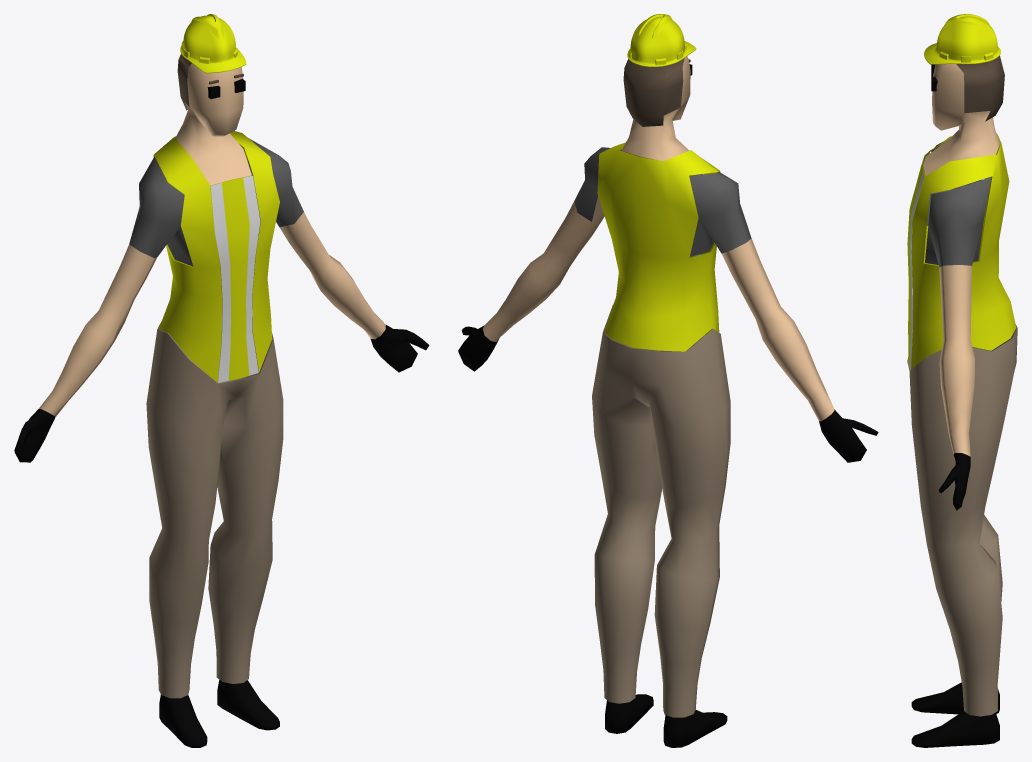
The model's file is engineer.fbx.
3 renders of one model, left to right at view 1: azimuth 30°, elevation 25°; view 2: azimuth 150°, elevation 25°; view 3: azimuth 270°, elevation 25°, orthographic.
Visible parts, largest first — view 1: Male.002, Male.001, Male.006, Male.007, Male.004, Male.008, Male.003, Male.005, Stock_Hard_Hat_fakey_1; view 2: Male.002, Male.001, Male.006, Male.004, Male.009, Male.003, Male.005, Stock_Hard_Hat_fakey_1, Male.007; view 3: Male.002, Male.001, Male.006, Male.004, Male.007, Male.003, Stock_Hard_Hat_fakey_1, Male.009, Male.005, Male.008.
Part boxes in pixels (box(x1,y1,x2,y2)): Male.002: box(146, 306, 283, 698); Male.001: box(153, 131, 279, 382); Male.006: box(39, 212, 385, 416); Male.007: box(175, 63, 251, 185); Male.004: box(129, 138, 303, 266); Male.008: box(210, 175, 260, 382); Male.003: box(159, 680, 279, 747); Male.005: box(14, 325, 429, 462); Stock_Hard_Hat_fakey_1: box(180, 14, 246, 73); Male.002: box(592, 304, 730, 717); Male.001: box(597, 142, 720, 351); Male.006: box(483, 196, 834, 421); Male.004: box(574, 147, 751, 256); Male.009: box(623, 58, 684, 126); Male.003: box(605, 694, 727, 747); Male.005: box(458, 325, 878, 462); Stock_Hard_Hat_fakey_1: box(627, 14, 696, 66); Male.007: box(621, 56, 690, 160); Male.002: box(907, 324, 1017, 716); Male.001: box(907, 133, 1016, 369); Male.006: box(939, 185, 974, 456); Male.004: box(925, 142, 991, 267); Male.007: box(923, 64, 999, 175); Male.003: box(911, 682, 999, 747); Stock_Hard_Hat_fakey_1: box(924, 14, 1000, 64); Male.009: box(956, 55, 1004, 121); Male.005: box(938, 453, 970, 510); Male.008: box(909, 158, 923, 369).
Bounding box in the file's own units: 106 × 173 × 24.53.
